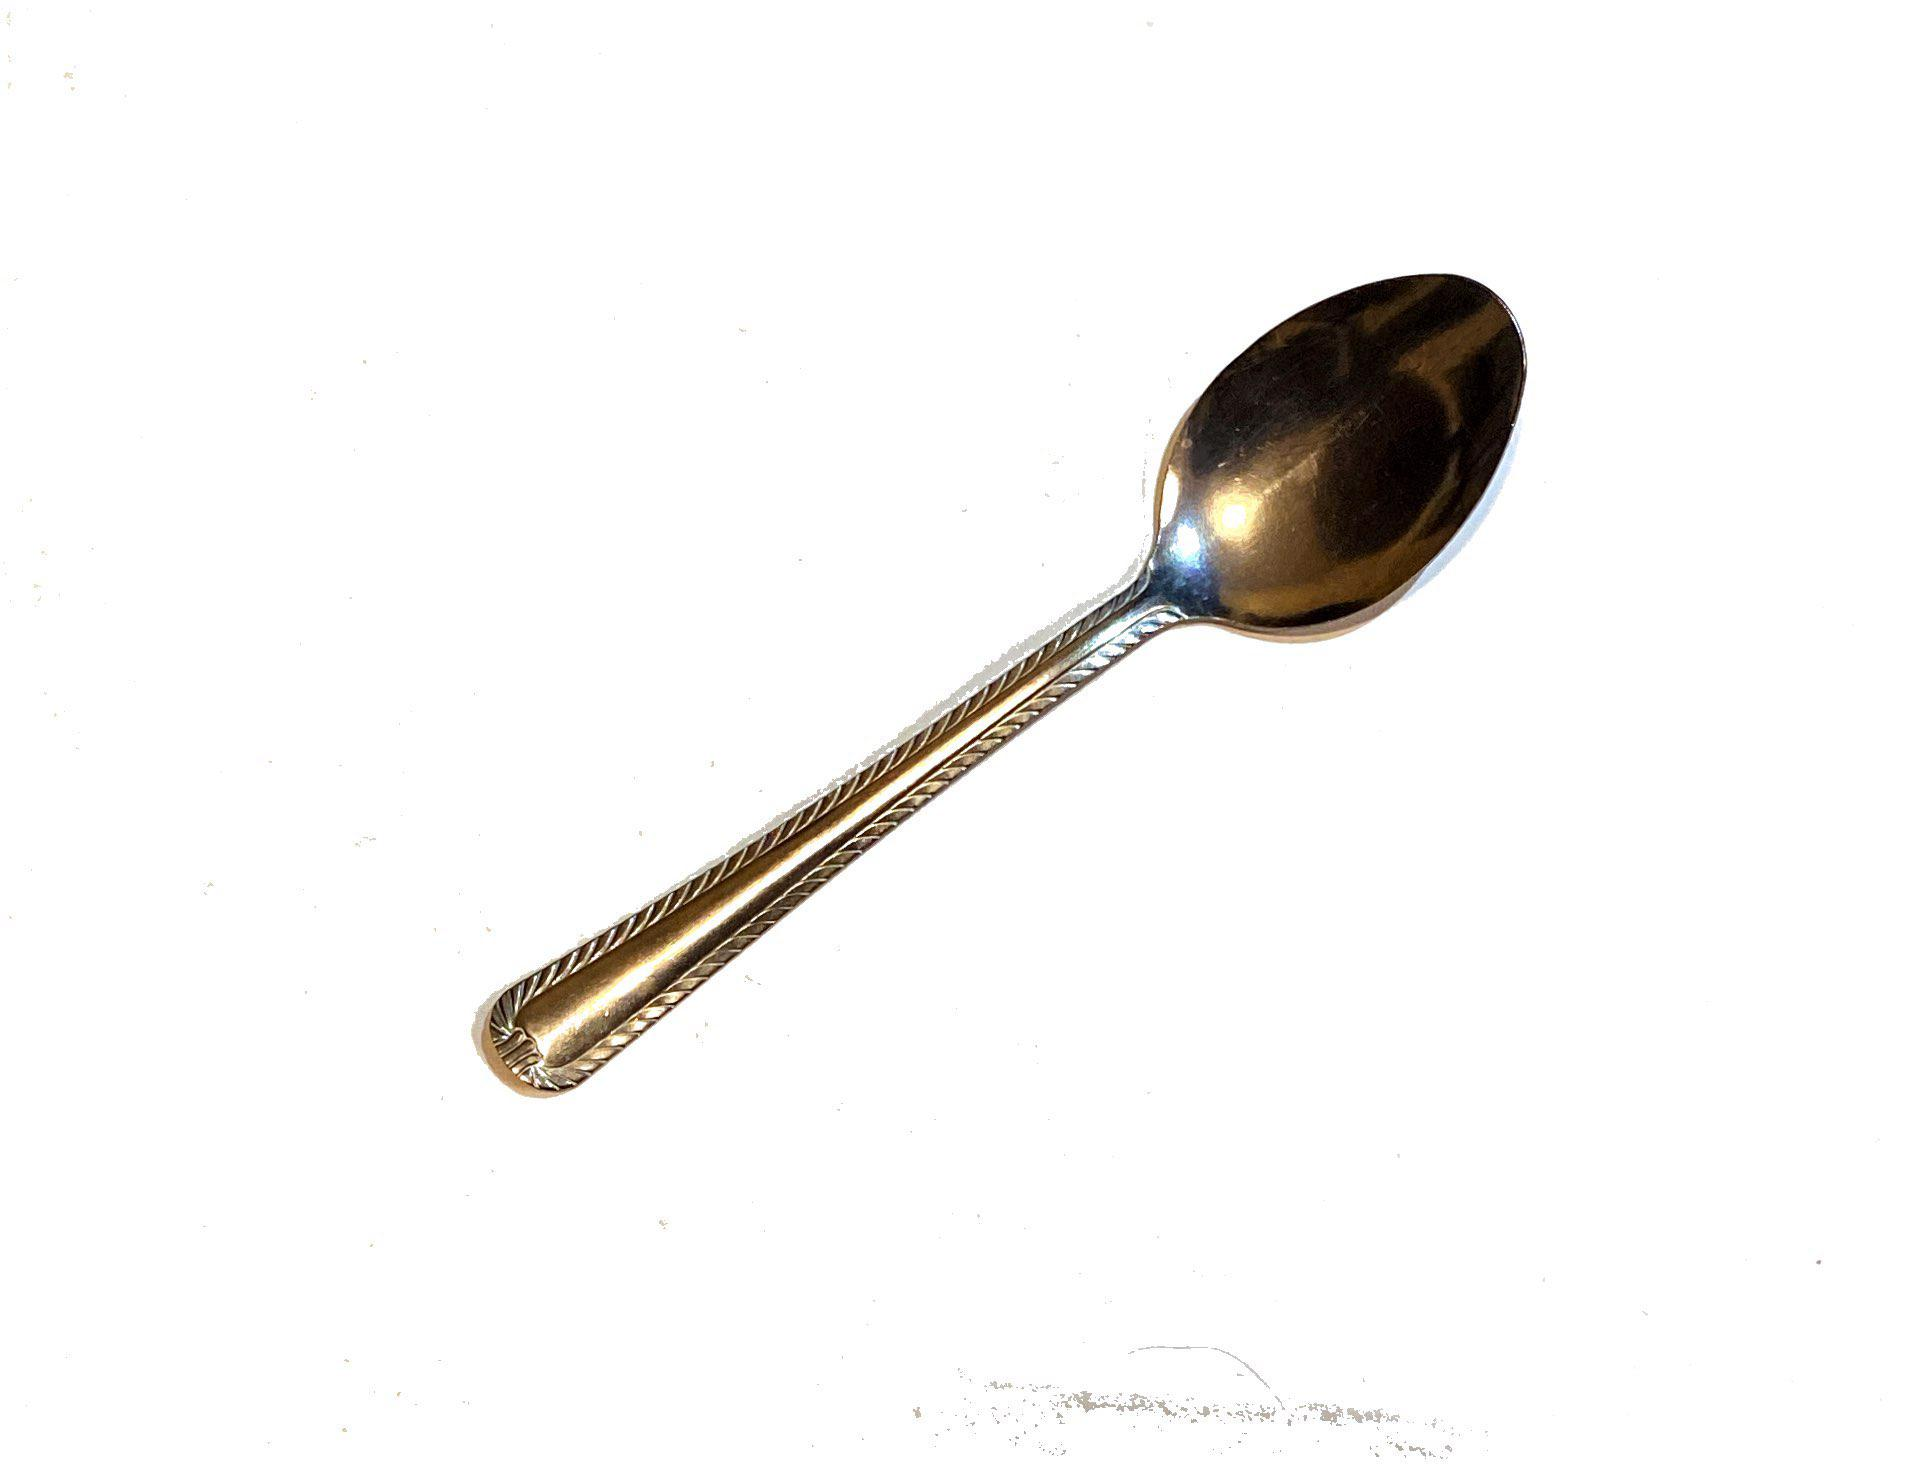Spoon: (355, 215, 1578, 1193)
